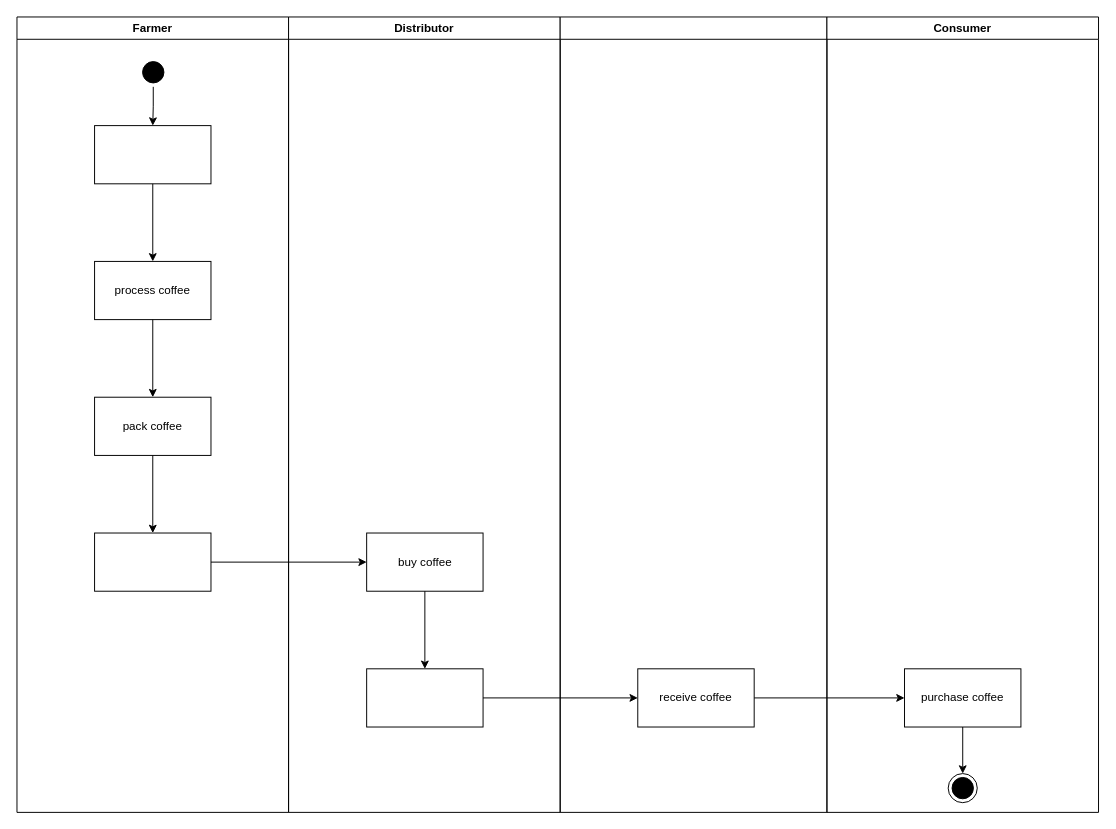
The diagram is 1116 pixels wide and 829 high, and some of its shapes have lost their labels. Here are the shapes that lost their labels. From the top down, the box of each, then its label:
(94, 125, 211, 184): harvest coffee
(559, 16, 827, 812): Retailer
(94, 532, 211, 591): sell coffee
(366, 668, 483, 727): ship coffee
